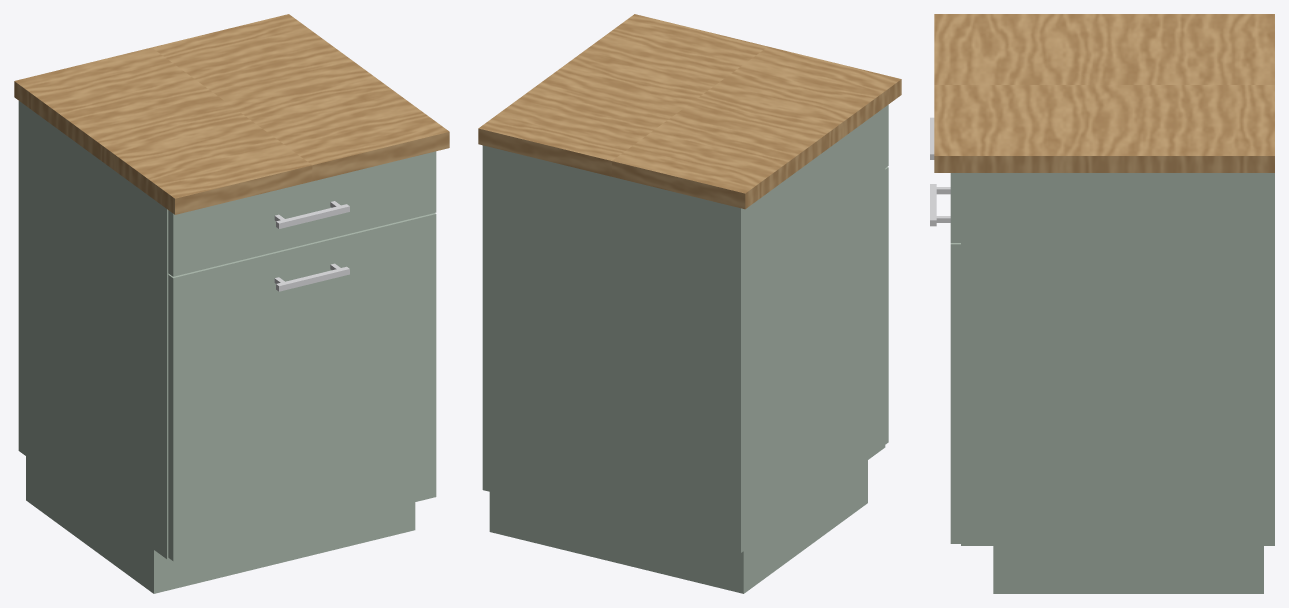
3 renders of one model, left to right at view 1: azimuth 30°, elevation 25°; view 2: azimuth 150°, elevation 25°; view 3: azimuth 270°, elevation 25°, orthographic. The views are drawn at different scales.
Visible parts, largest first — view 1: Kitchen base cabinet with worktop; view 2: Kitchen base cabinet with worktop; view 3: Kitchen base cabinet with worktop.
Part boxes in pixels (box(x1,y1,x2,y2)): Kitchen base cabinet with worktop: box(14, 14, 449, 593); Kitchen base cabinet with worktop: box(478, 14, 901, 593); Kitchen base cabinet with worktop: box(930, 14, 1274, 593).
Size of the model in its own units: 0.62 by 0.9 by 0.637.
Materials: 3 (1 with a texture image).
